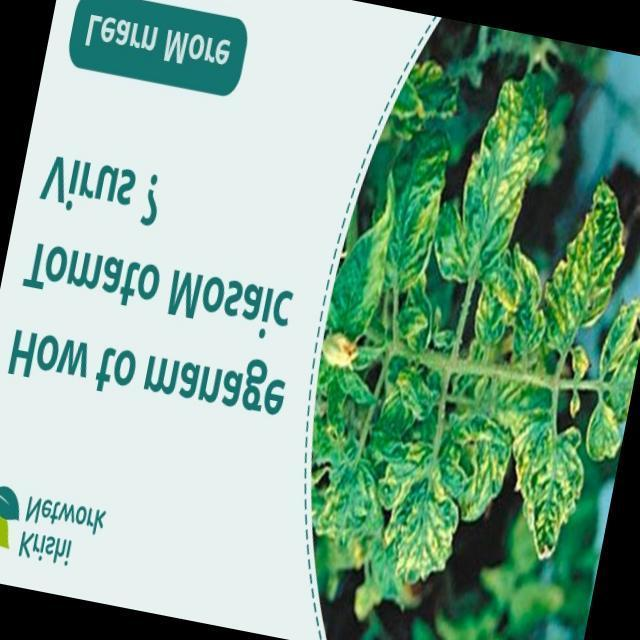Mosaic Virus: (454, 83, 555, 275), (377, 123, 457, 302), (546, 182, 634, 341), (378, 484, 454, 587), (527, 428, 582, 562), (458, 422, 520, 530), (593, 291, 640, 394), (583, 390, 628, 470)
